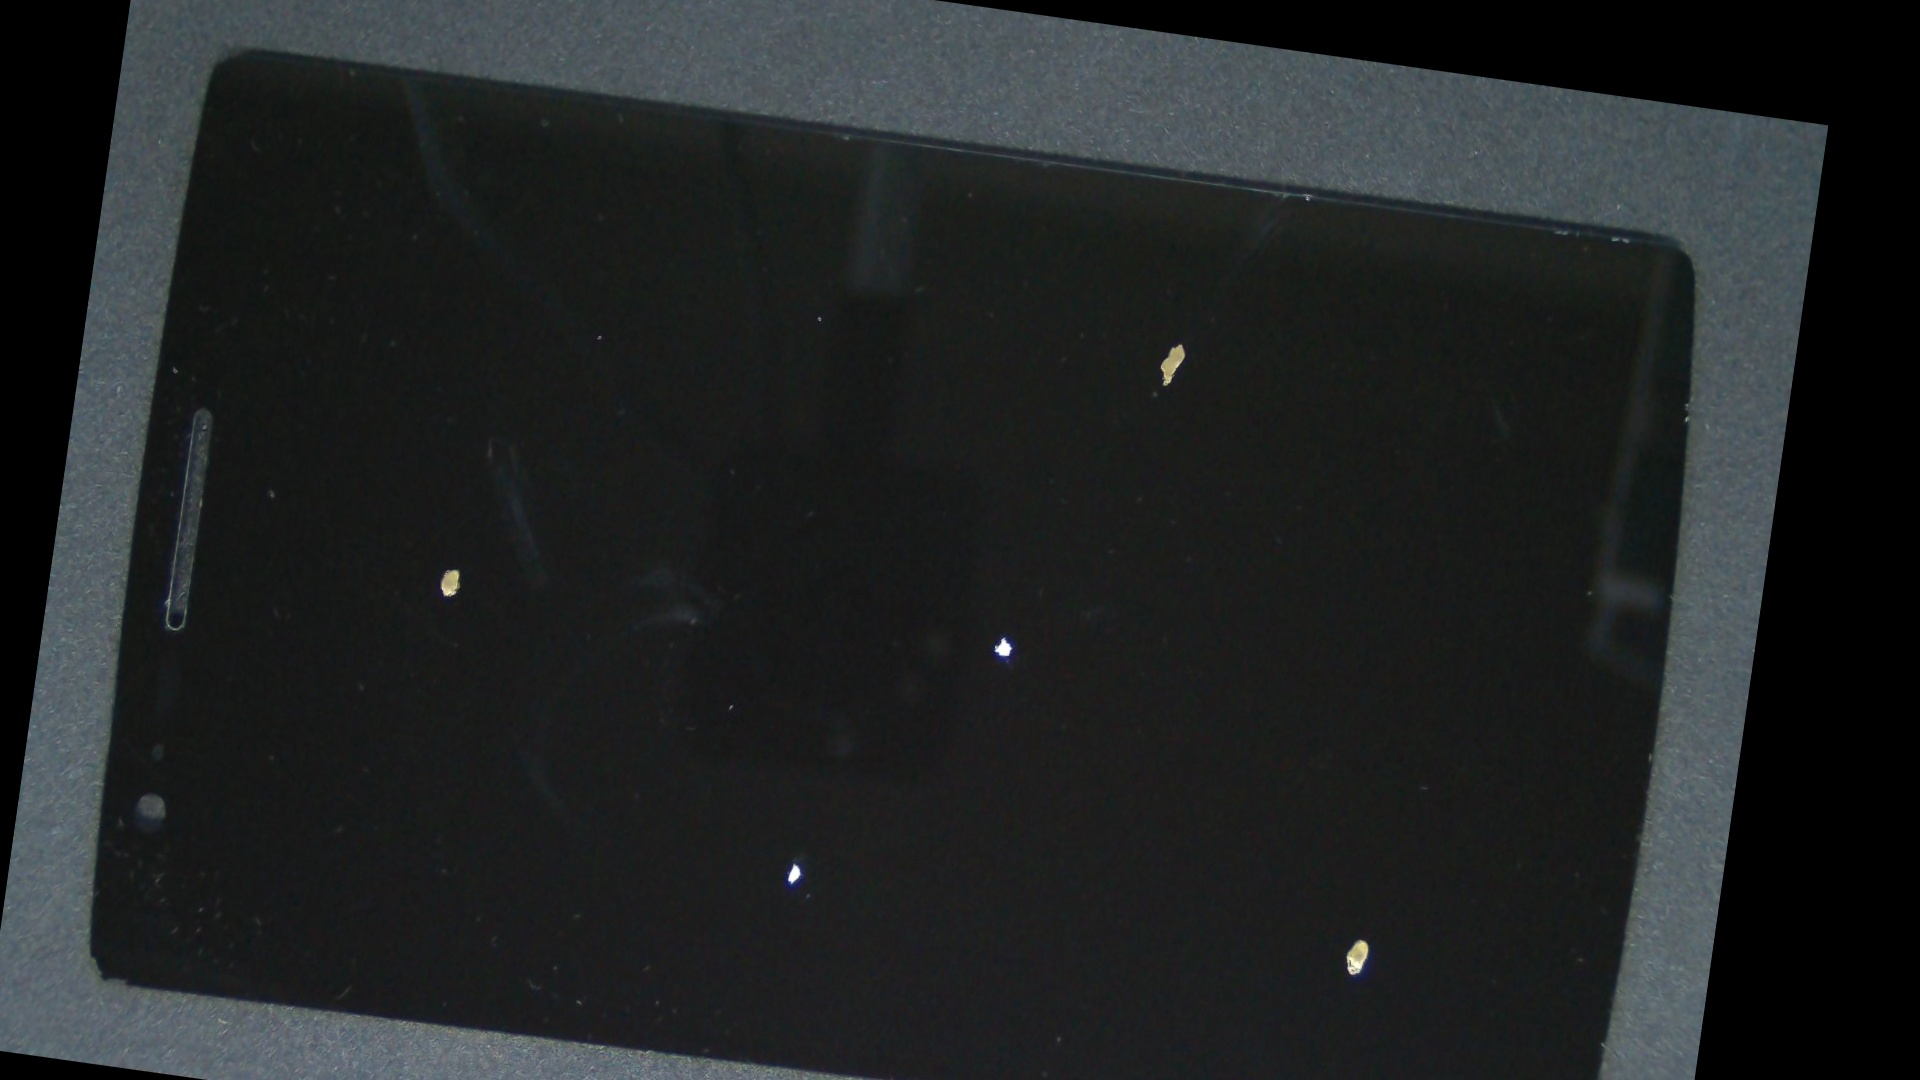oil: (489, 261, 1518, 1010), (651, 414, 1768, 1080), (367, 376, 1236, 1080), (621, 115, 1738, 570), (215, 228, 700, 907)
